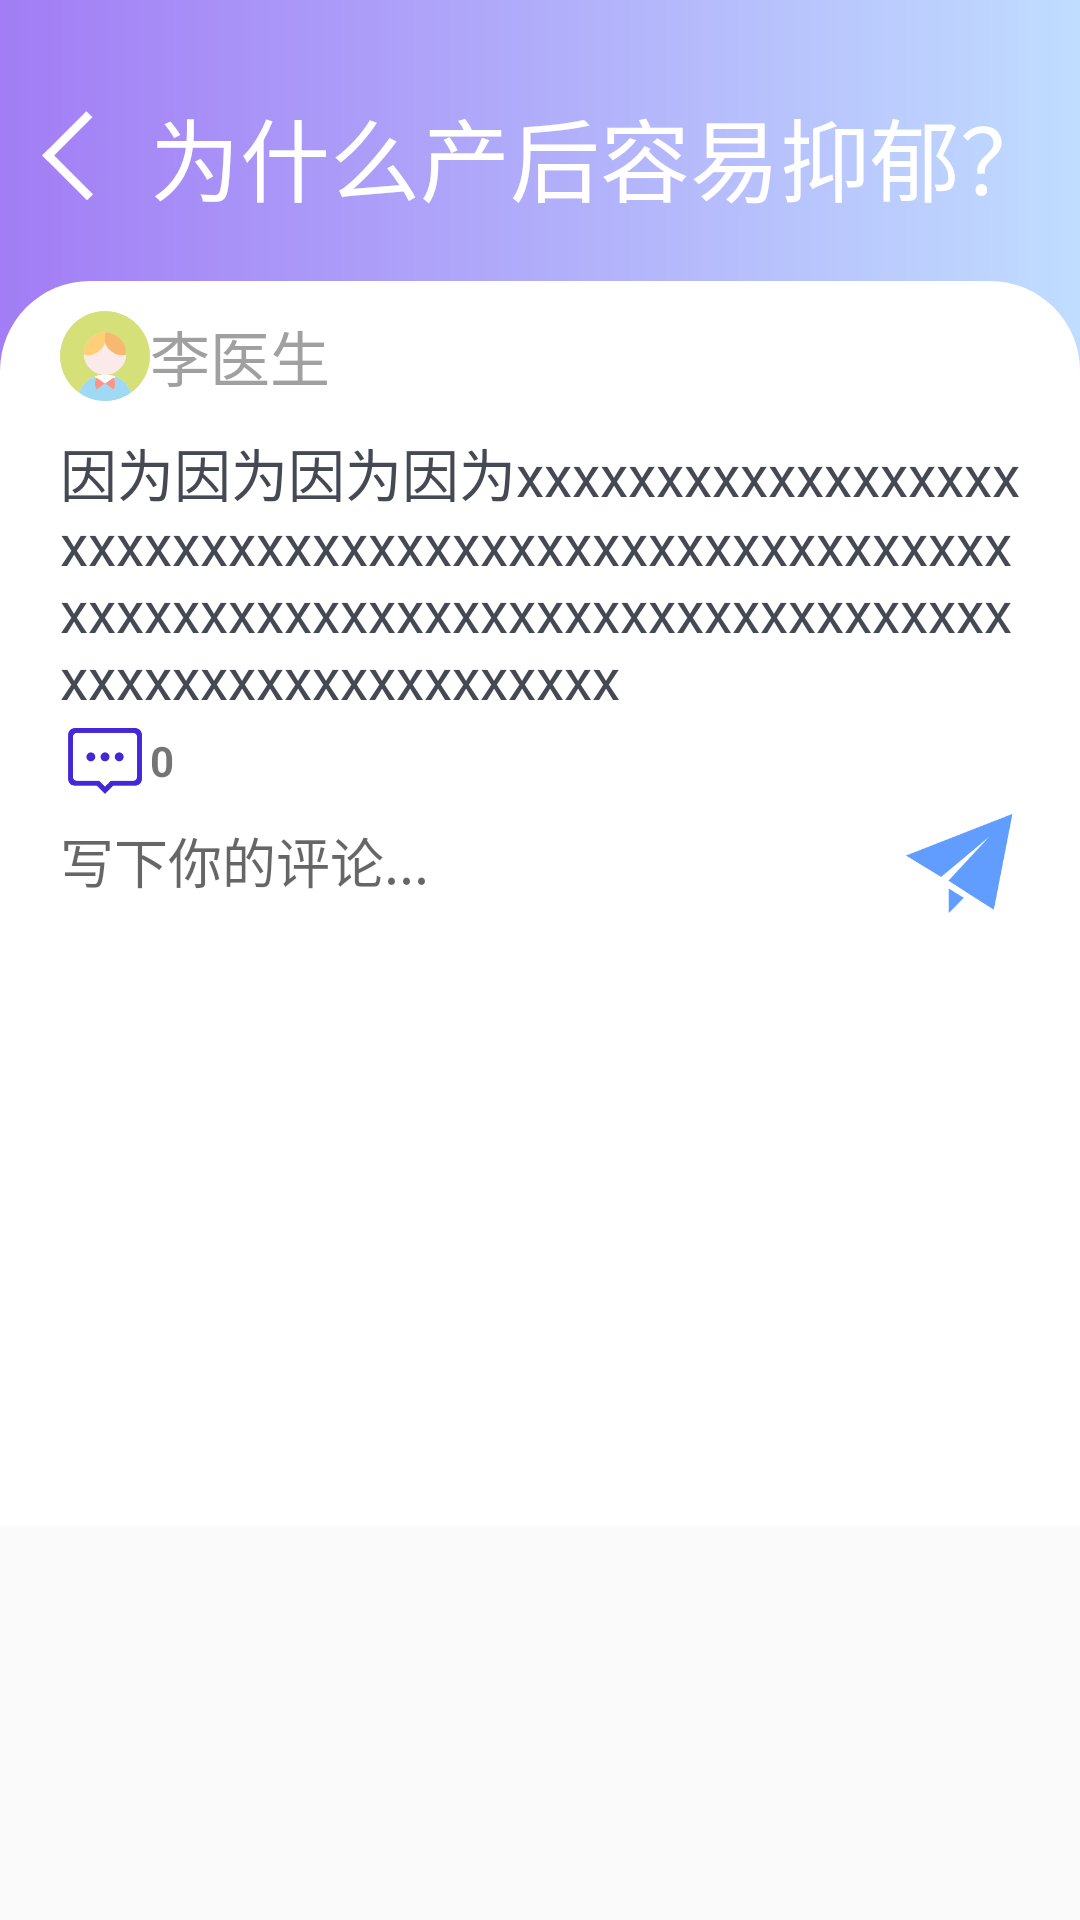

Icon bounding boxes for this 1080w x 1920h phone screenshot, format {"x1": x1, "y1": y1, "x2": x2, "y2": y2}:
back: {"x1": 42, "y1": 111, "x2": 93, "y2": 200}
fasong: {"x1": 906, "y1": 814, "x2": 1012, "y2": 913}
head: {"x1": 60, "y1": 311, "x2": 150, "y2": 401}
pinglun: {"x1": 68, "y1": 728, "x2": 142, "y2": 794}
